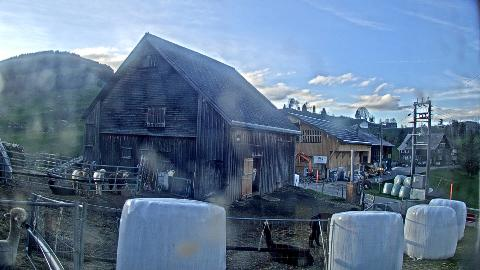car: (348, 171, 364, 181), (418, 160, 426, 166)
sheep: (42, 212, 92, 262), (262, 222, 314, 268), (308, 206, 360, 248), (0, 208, 28, 270), (108, 171, 130, 195), (72, 168, 90, 194), (49, 180, 75, 196), (94, 169, 107, 195), (372, 203, 394, 213), (252, 168, 258, 184), (368, 207, 384, 211)
